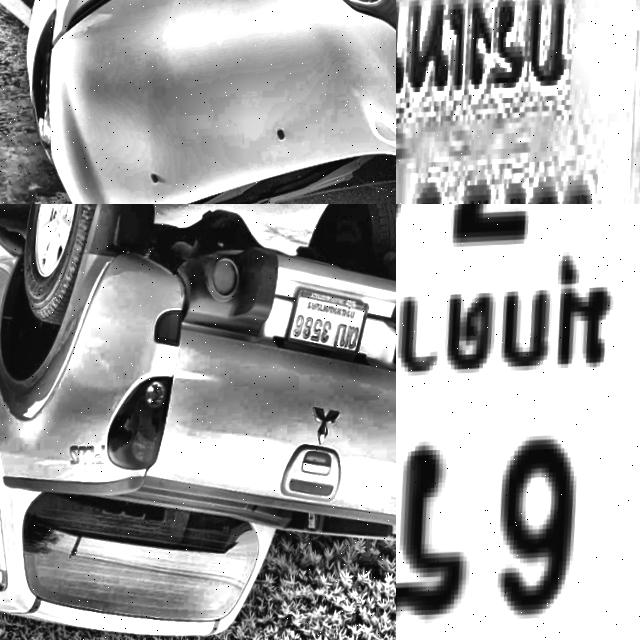license-plate: (396, 204, 640, 640), (396, 0, 640, 204), (282, 278, 375, 364)
